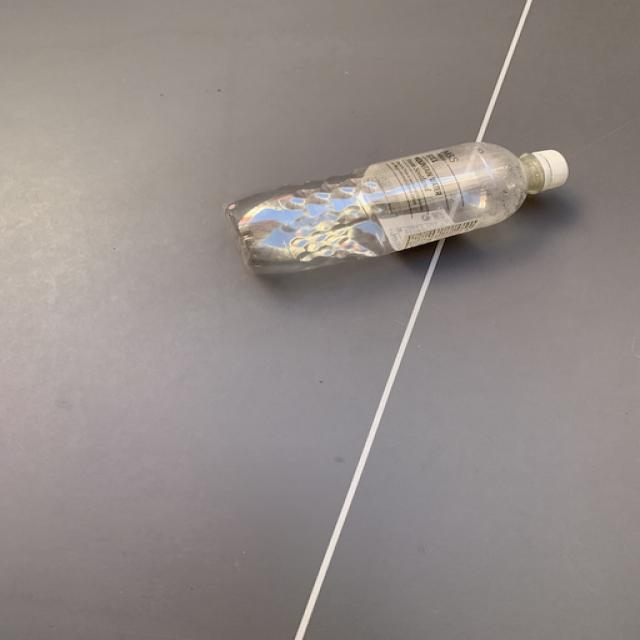Waste: (226, 143, 569, 274)
